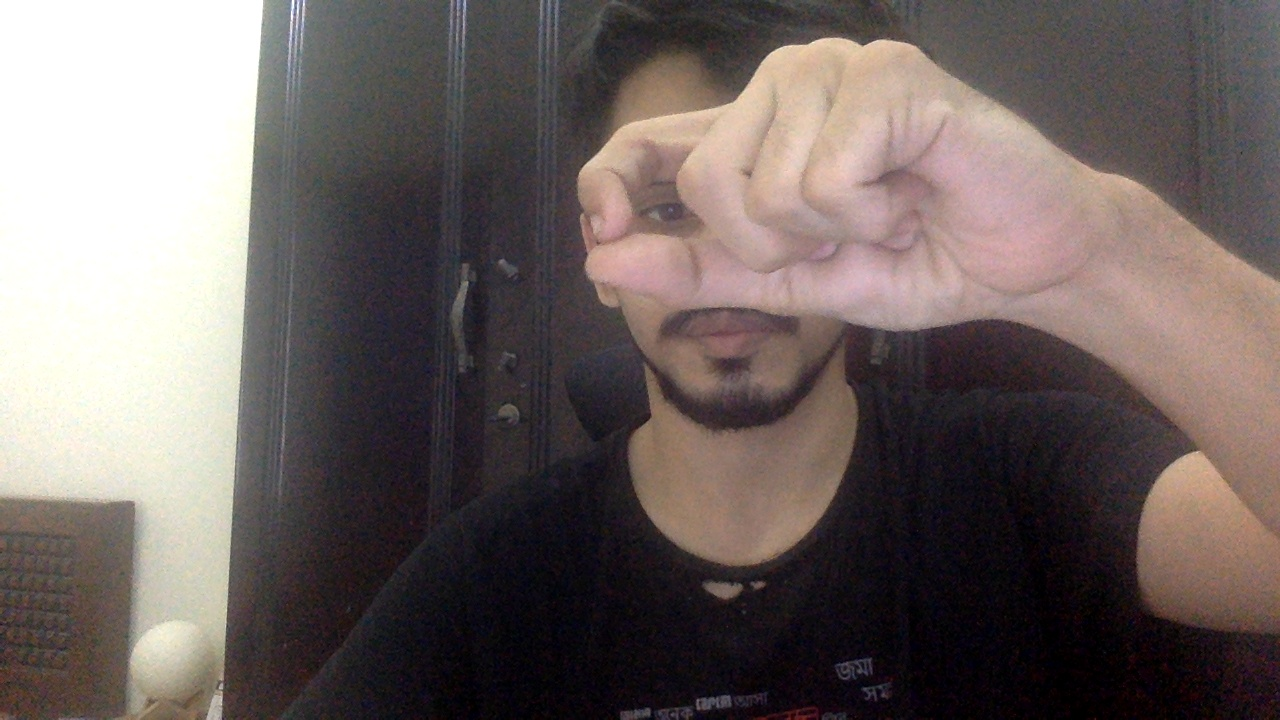zero: (574, 35, 1103, 335)
